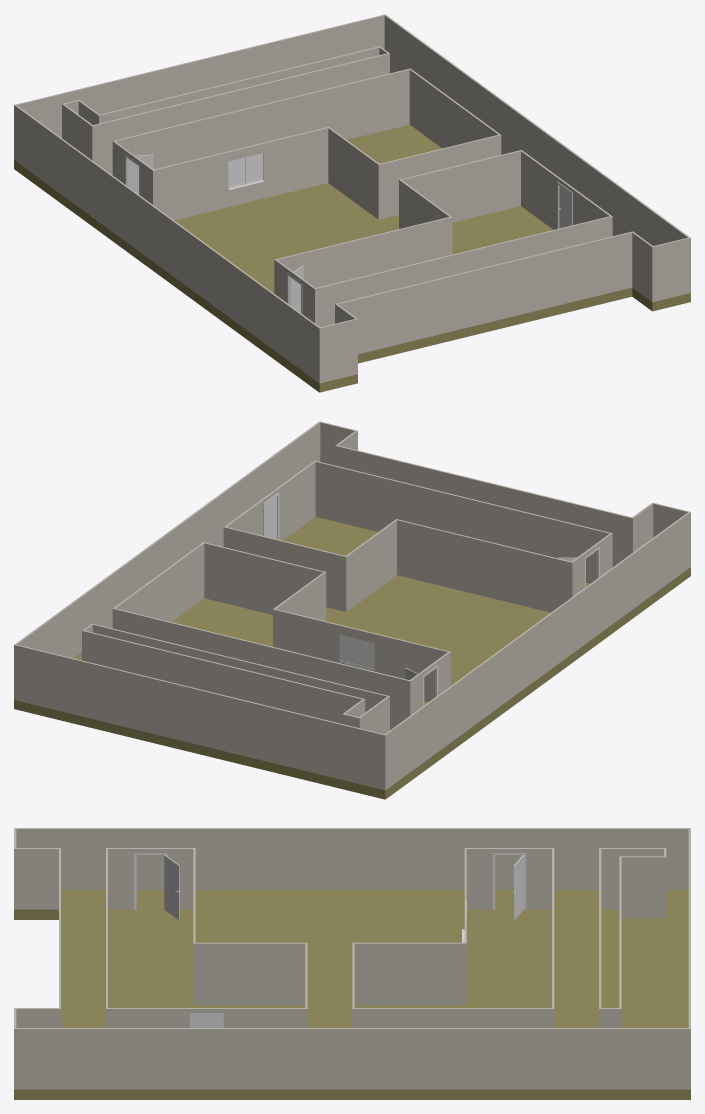
The model's file is corridor.dae.
3 renders of one model, top to bottom at view 1: azimuth 30°, elevation 25°; view 2: azimuth 150°, elevation 25°; view 3: azimuth 270°, elevation 25°, orthographic. The views are drawn at different scales.
Visible parts, largest first — view 1: Wall, Room2, Room3, Floor, Room1; view 2: Wall, Room3, Room2, Floor, Room1; view 3: Wall, Floor, Room2, Room3, Room1, Door.001, Door, DoorFrame.
Boxes of the visible parts, x1,y1,x2,y2 form: Wall: (14, 14, 690, 383); Room2: (112, 68, 501, 220); Room3: (274, 150, 612, 327); Floor: (14, 124, 690, 392); Room1: (62, 46, 389, 174); Wall: (14, 421, 690, 790); Room3: (223, 460, 612, 612); Room2: (112, 542, 450, 729); Floor: (14, 517, 690, 799); Room1: (82, 623, 389, 734); Wall: (14, 828, 690, 1089); Floor: (14, 890, 690, 1099); Room2: (352, 848, 554, 1027); Room3: (106, 848, 307, 1027); Room1: (599, 848, 666, 1027); Door.001: (164, 855, 179, 920); Door: (513, 855, 523, 920); DoorFrame: (492, 853, 526, 909).
Bounding box in the file's own units: 21.2 × 30.2 × 3.5.
Materials: 11 (5 with a texture image).
